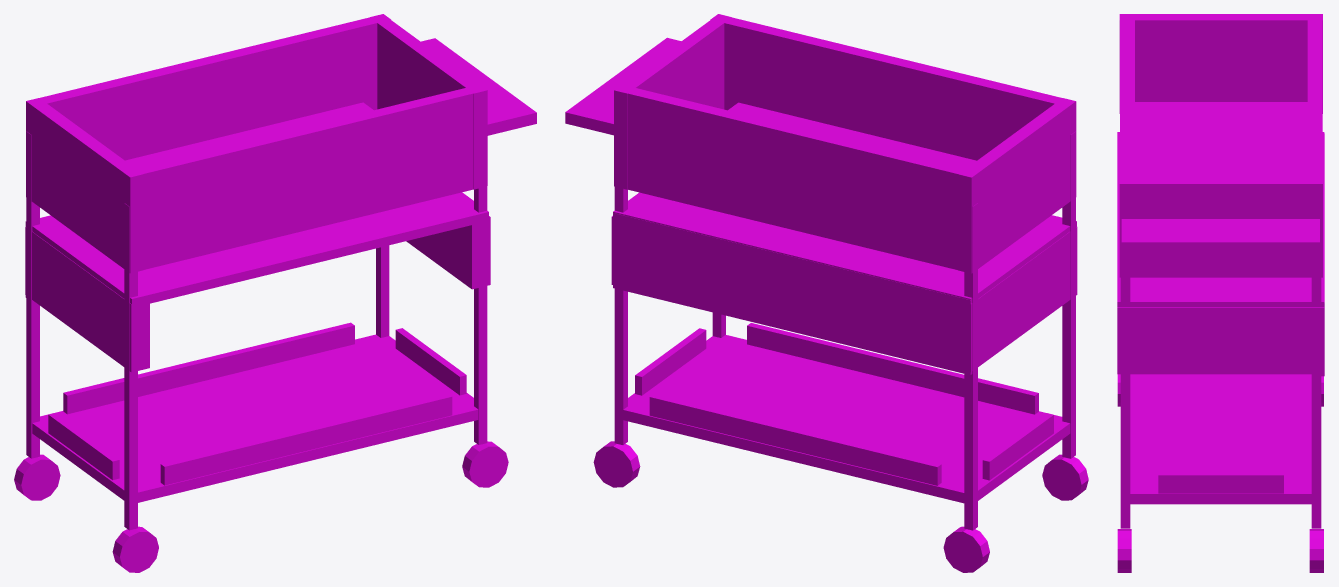
File: SM_SupplyCartCollider.fbx
3 views of the same model, side by side, from view 1: azimuth 30°, elevation 25°; view 2: azimuth 150°, elevation 25°; view 3: azimuth 270°, elevation 25° (orthographic). The views are drawn at different scales.
Parts seen in each view (by area): view 1: SupplyCartCollision; view 2: SupplyCartCollision; view 3: SupplyCartCollision.
Boxes of the visible parts, left/top/right/bottom form: SupplyCartCollision: left=14, top=14, right=536, bottom=572; SupplyCartCollision: left=565, top=14, right=1088, bottom=572; SupplyCartCollision: left=1117, top=14, right=1324, bottom=572.
Size of the model in its own units: 110 by 99.3 by 48.21.
